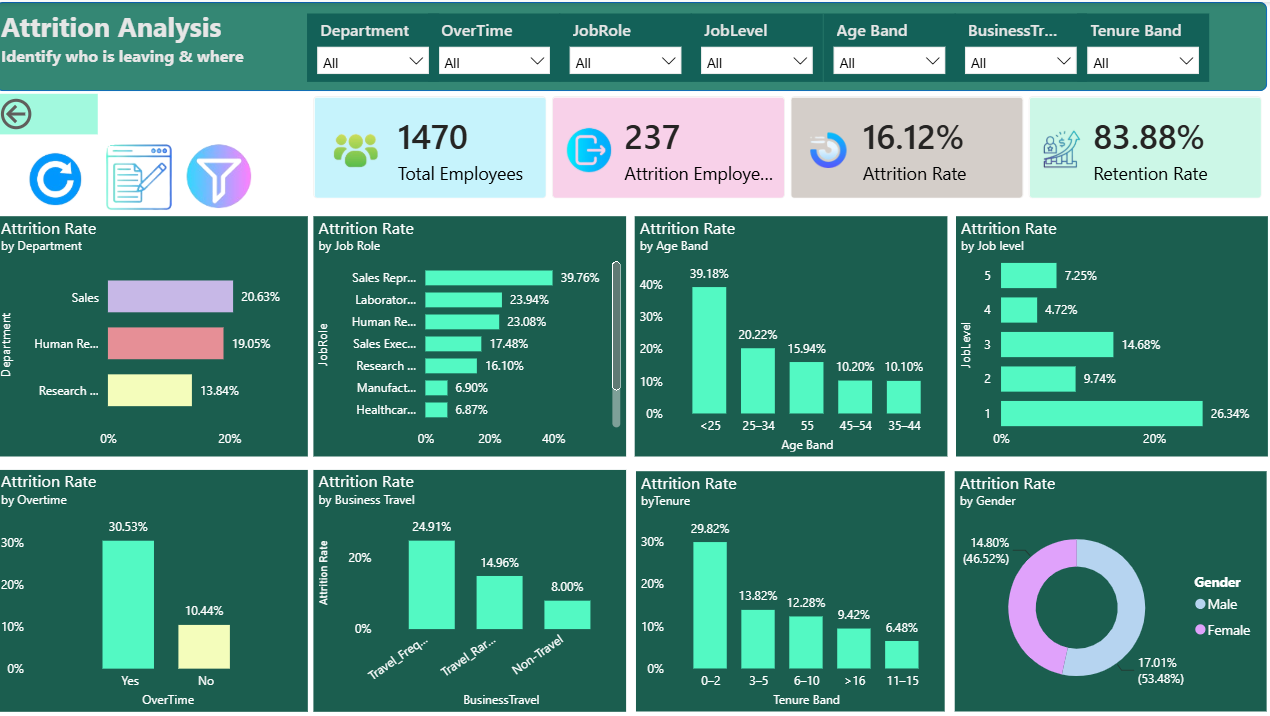

The dashboard page shown, as its layout file describes it:
{"tool":"powerbi","page":{"name":"Attrition Analysis","canvas":[1280,720],"ordinal":2},"visuals":[{"type":"shape","box":[9.1,0,1253,87.9],"z":0},{"type":"textbox","box":[8.6,1.4,267.1,85.7],"z":1000},{"type":"slicer","fields":{"Values":["HR.JobRole"]},"box":[564.3,11.4,130,67.1],"z":2000},{"type":"slicer","fields":{"Values":["HR.JobLevel"]},"box":[694.3,11.4,130,67.1],"z":3000},{"type":"slicer","fields":{"Values":["HR.Age Band"]},"box":[824.3,11.4,130,67.1],"z":4000},{"type":"slicer","fields":{"Values":["HR.OverTime"]},"box":[434.3,11.4,130,67.1],"z":5000},{"type":"slicer","fields":{"Values":["HR.BusinessTravel"]},"box":[954.3,11.4,130,67.1],"z":6000},{"type":"slicer","fields":{"Values":["HR.Tenure Band"]},"box":[1074.3,11.4,130,67.1],"z":7000},{"type":"slicer","fields":{"Values":["HR.Department"]},"box":[315.7,11.4,130,67.1],"z":8000},{"type":"cardVisual","fields":{"Data":["#MEASURES.Total Employees","#MEASURES.Attrition Employees","#MEASURES.Attrition Rate","#MEASURES.Retention Rate"]},"box":[316.3,88,945.9,111.9],"z":9000},{"type":"clusteredBarChart","title":"Attrition Rate","fields":{"Category":["HR.Department"],"Y":["#MEASURES.Attrition Rate"]},"box":[8.6,211.4,307.1,237.1],"z":10000},{"type":"clusteredBarChart","title":"Attrition Rate","fields":{"Category":["HR.JobRole"],"Y":["#MEASURES.Attrition Rate"]},"box":[321.4,211.4,308,237.1],"z":11000},{"type":"clusteredColumnChart","title":"Attrition Rate","fields":{"Category":["HR.BusinessTravel"],"Y":["#MEASURES.Attrition Rate"]},"box":[321.4,461.4,308.6,238.6],"z":12000},{"type":"clusteredColumnChart","title":"Attrition Rate","fields":{"Category":["HR.OverTime"],"Y":["#MEASURES.Attrition Rate"]},"box":[8.6,461.4,307.1,238.6],"z":13000},{"type":"clusteredColumnChart","title":"Attrition Rate","fields":{"Category":["HR.Age Band"],"Y":["#MEASURES.Attrition Rate"]},"box":[638.6,211.4,308,237.1],"z":14000},{"type":"clusteredColumnChart","title":"Attrition Rate","fields":{"Category":["HR.Tenure Band"],"Y":["#MEASURES.Attrition Rate"]},"box":[640,462.9,304.3,237.1],"z":15000},{"type":"clusteredBarChart","title":"Attrition Rate","fields":{"Category":["HR.JobLevel"],"Y":["#MEASURES.Attrition Rate"]},"box":[955.7,211.4,307.1,237.1],"z":16000},{"type":"donutChart","title":"Attrition Rate","fields":{"Category":["HR.Gender"],"Y":["#MEASURES.Attrition Rate"]},"box":[954.3,462.9,307.1,237.1],"z":17000},{"type":"actionButton","box":[9,91,100,40],"z":18000},{"type":"image","box":[31.3,135.8,77.6,76.1],"z":19000},{"type":"image","box":[108.9,131.3,79.9,82.5],"z":20000},{"type":"image","box":[189.5,129.8,77.6,77.6],"z":22000}]}

Visuals, with their boxes in screenshot pixels (x1, y1, x2, y2), scaled from the page's 1280x720 canvas onto the 1270x716 screenshot:
shape: (left=9, top=0, right=1252, bottom=87)
textbox: (left=9, top=1, right=274, bottom=87)
slicer - HR.JobRole: (left=560, top=11, right=689, bottom=78)
slicer - HR.JobLevel: (left=689, top=11, right=818, bottom=78)
slicer - HR.Age Band: (left=818, top=11, right=947, bottom=78)
slicer - HR.OverTime: (left=431, top=11, right=560, bottom=78)
slicer - HR.BusinessTravel: (left=947, top=11, right=1076, bottom=78)
slicer - HR.Tenure Band: (left=1066, top=11, right=1195, bottom=78)
slicer - HR.Department: (left=313, top=11, right=442, bottom=78)
cardVisual - #MEASURES.Total Employees x #MEASURES.Attrition Employees: (left=314, top=88, right=1252, bottom=199)
"Attrition Rate" clusteredBarChart: (left=9, top=210, right=313, bottom=446)
"Attrition Rate" clusteredBarChart: (left=319, top=210, right=624, bottom=446)
"Attrition Rate" clusteredColumnChart: (left=319, top=459, right=625, bottom=696)
"Attrition Rate" clusteredColumnChart: (left=9, top=459, right=313, bottom=696)
"Attrition Rate" clusteredColumnChart: (left=634, top=210, right=939, bottom=446)
"Attrition Rate" clusteredColumnChart: (left=635, top=460, right=937, bottom=696)
"Attrition Rate" clusteredBarChart: (left=948, top=210, right=1253, bottom=446)
"Attrition Rate" donutChart: (left=947, top=460, right=1252, bottom=696)
actionButton: (left=9, top=90, right=108, bottom=130)
image: (left=31, top=135, right=108, bottom=211)
image: (left=108, top=131, right=187, bottom=213)
image: (left=188, top=129, right=265, bottom=206)
